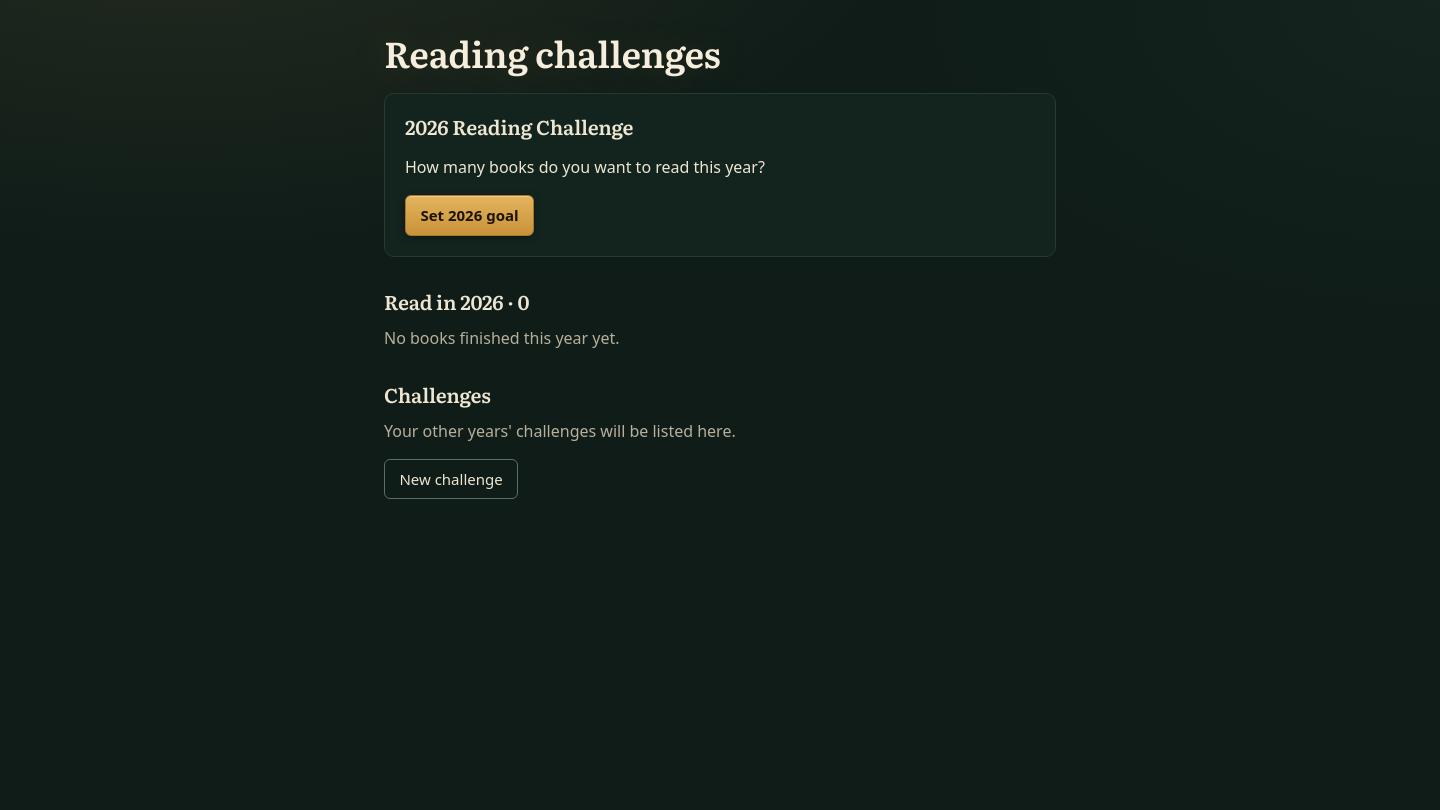
it: reading challenges › withoutAGoalItOffersToSetOne
Click the button "Set 2026 goal" at (470,216), box left=405, top=195, right=534, bottom=236
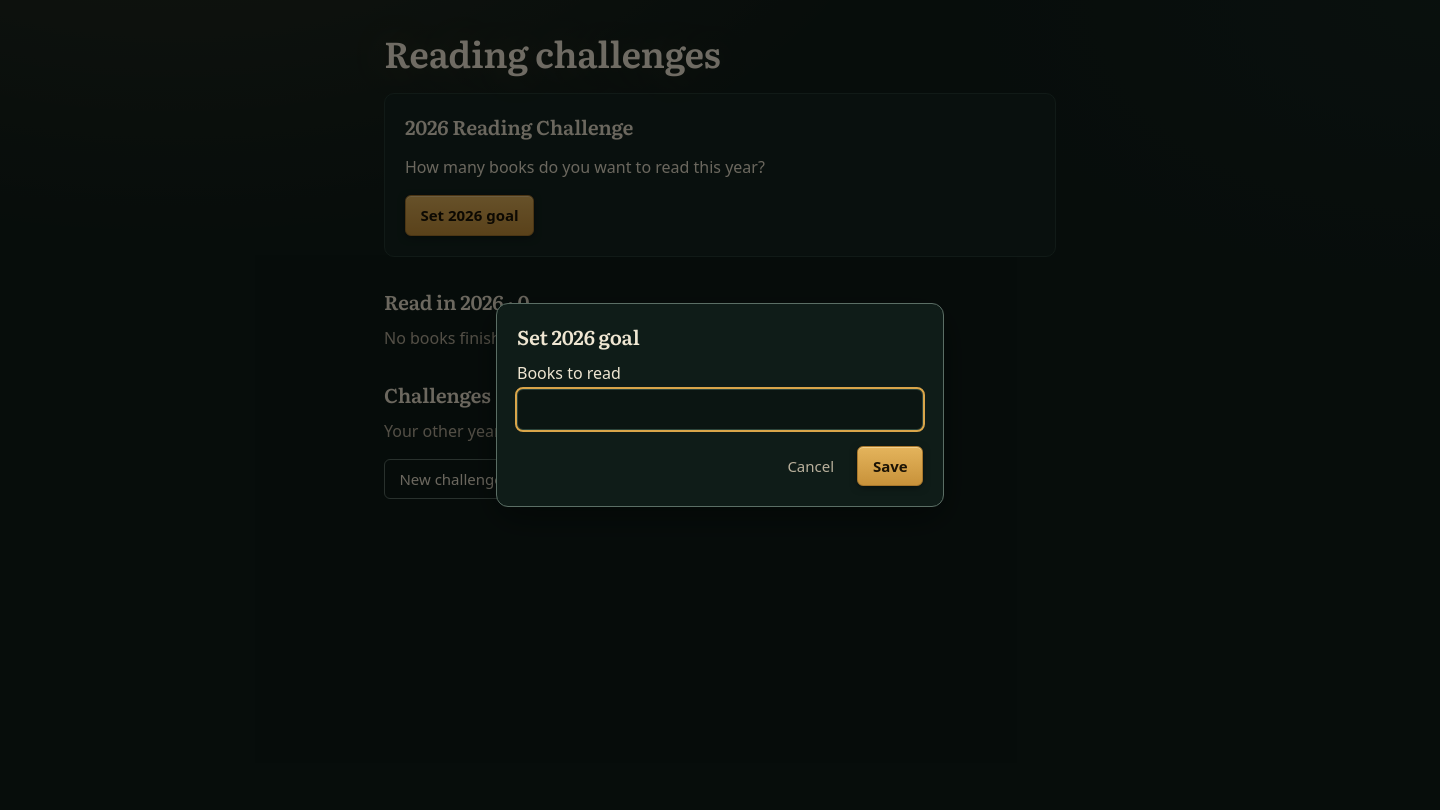
Type "24" into the field labelled "Books to read" at (720,409), box left=517, top=389, right=923, bottom=430
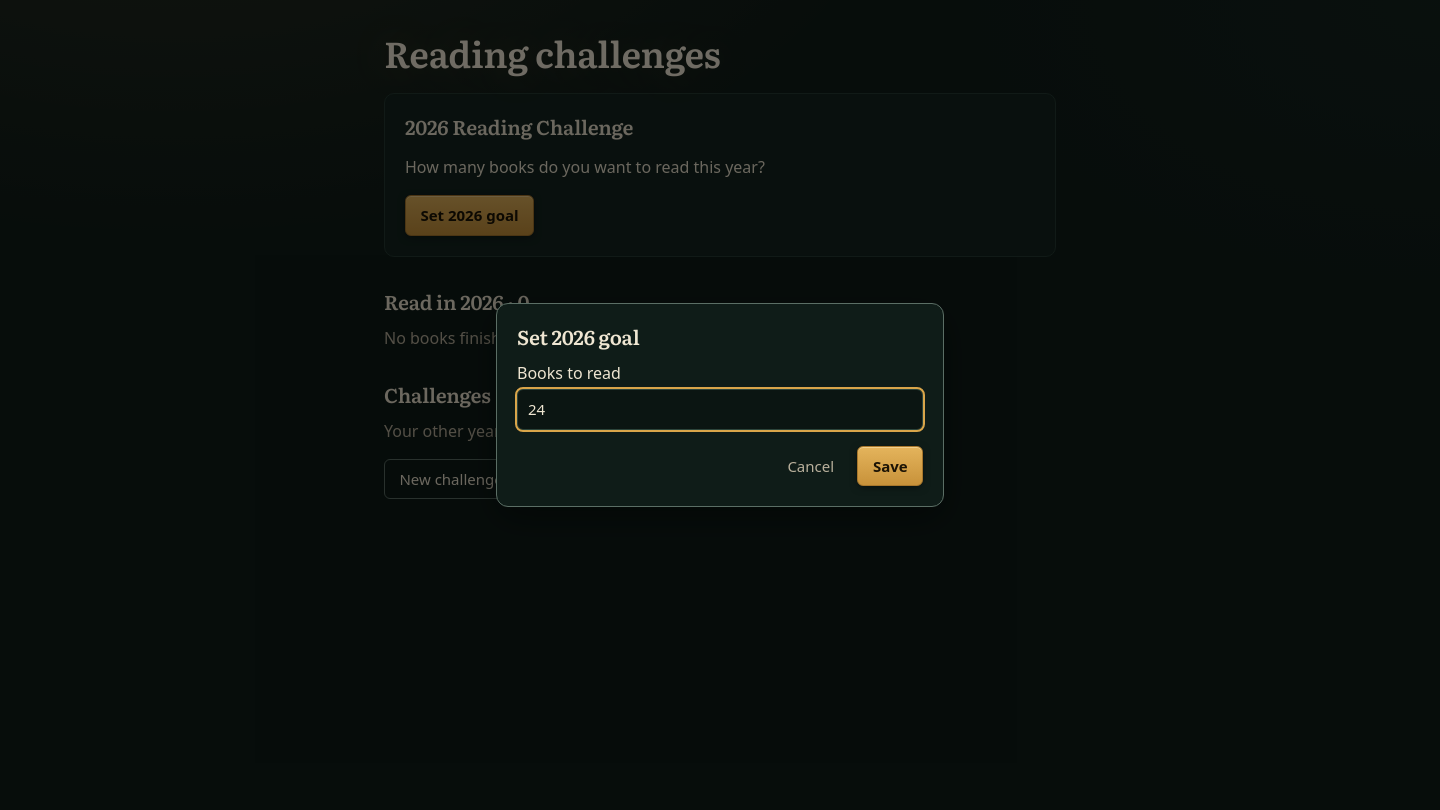
Click the button "Save" at (890,466), box left=858, top=446, right=923, bottom=486
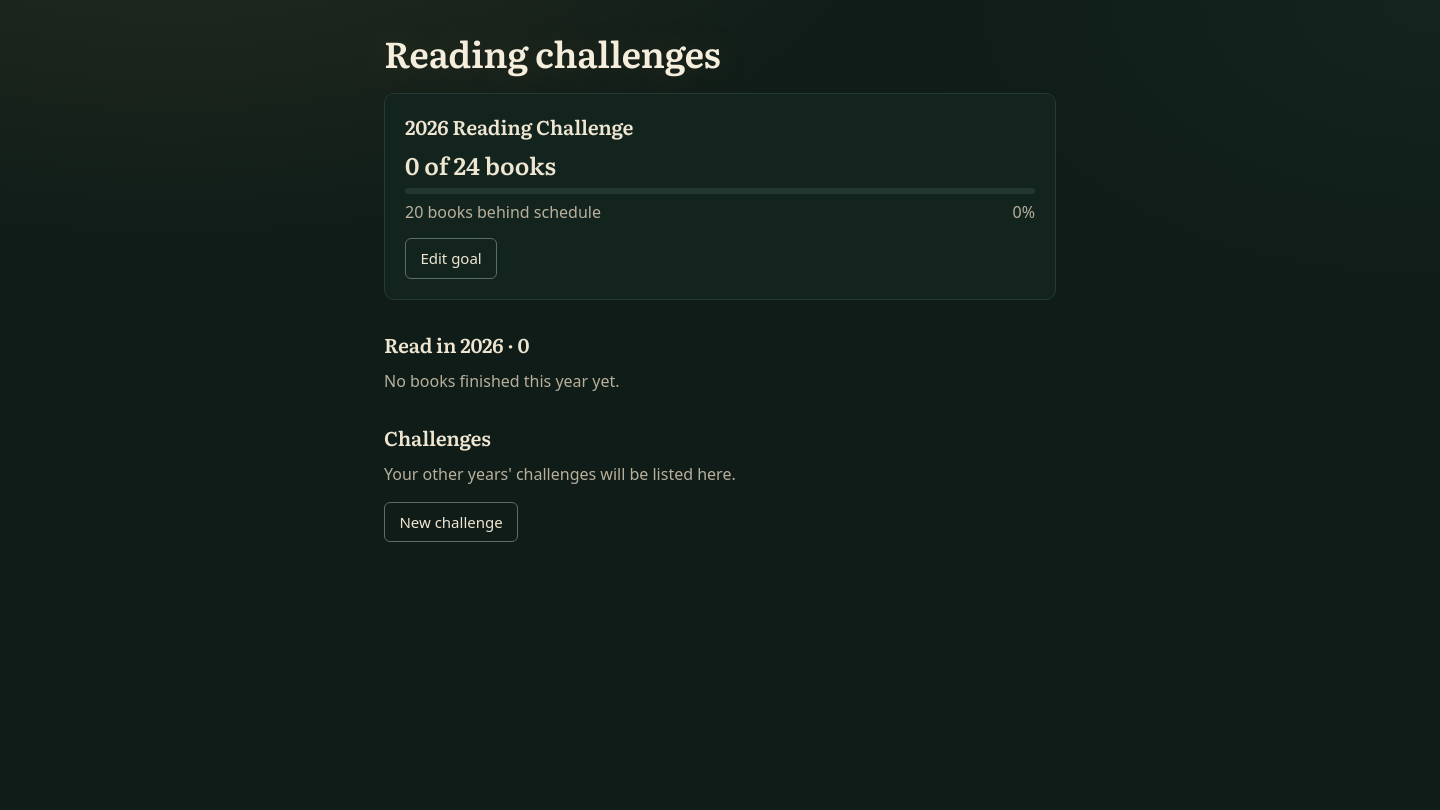
Expected: the dialog is gone
